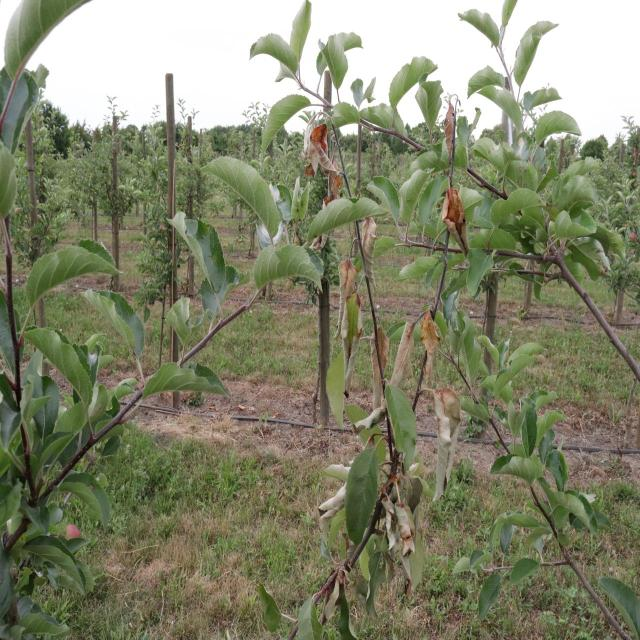-FireBlight-: (429, 177, 476, 261), (299, 125, 349, 199), (400, 318, 442, 386)
